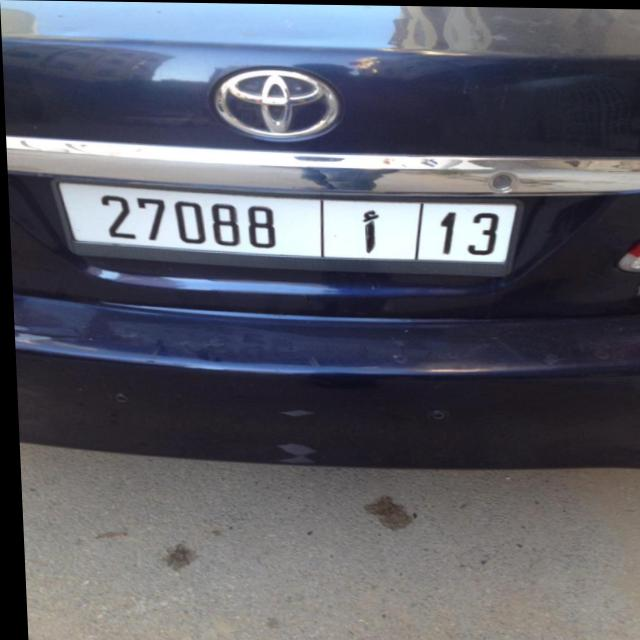License-Plate: (55, 182, 519, 274)
